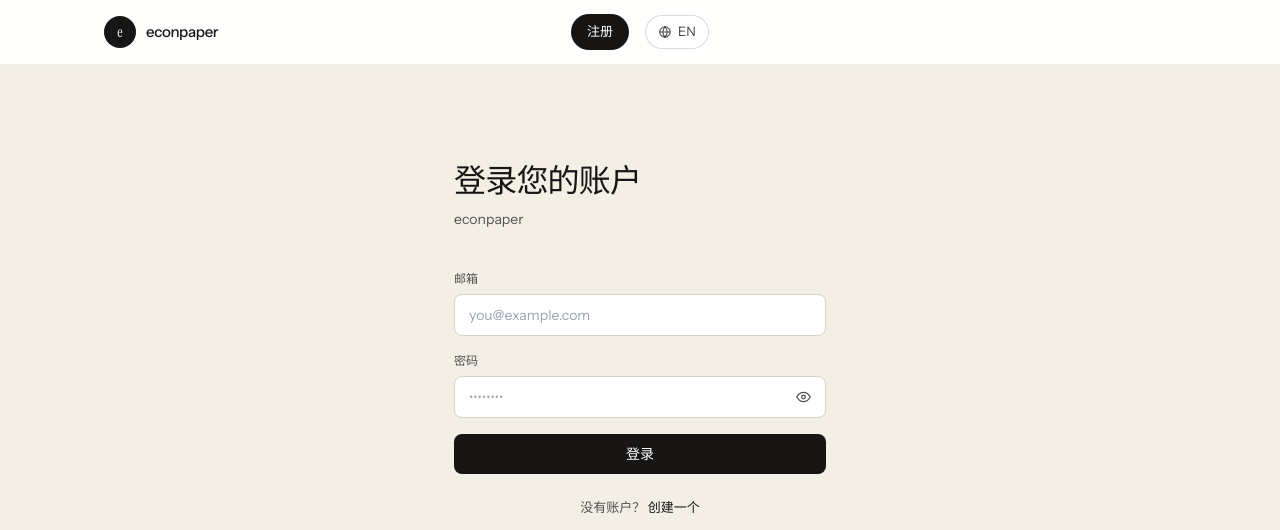
Test: LoginPage › shows "Signing in..." while loading
The image size is (1280, 530).
Type "test@example.com" into the field labelled "邮箱" at (640, 315), box 454,294 -> 826,336
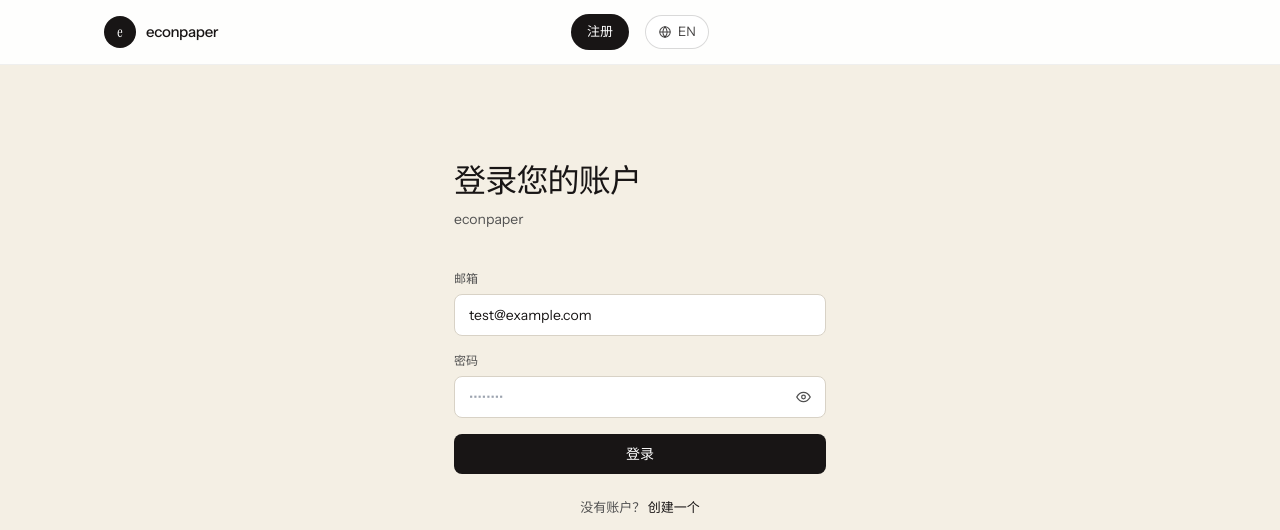
Type "secret123" into the password field labelled "密码" at (640, 397), box 454,376 -> 826,418
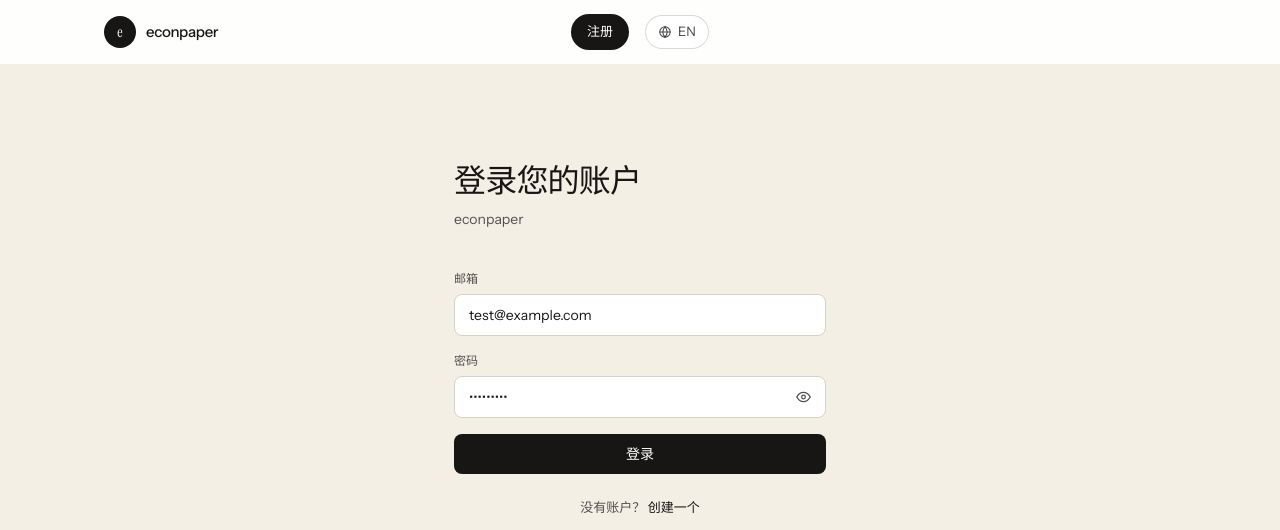
Click the button "登录" at (640, 454), box 454,434 -> 826,474
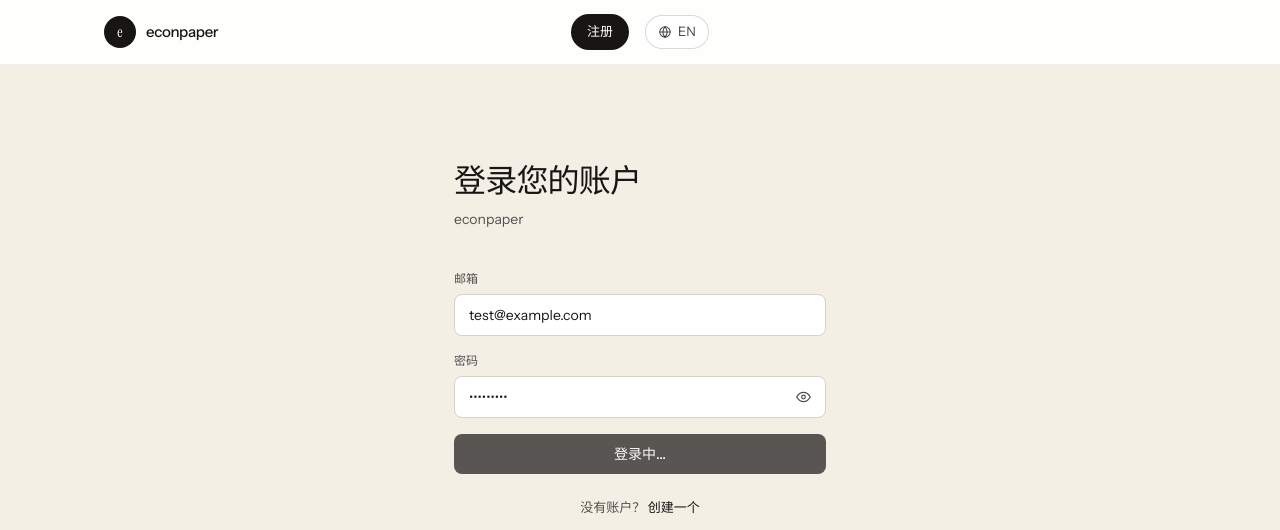
Expected: the button "登录中..." is shown, 454,434 -> 826,474
